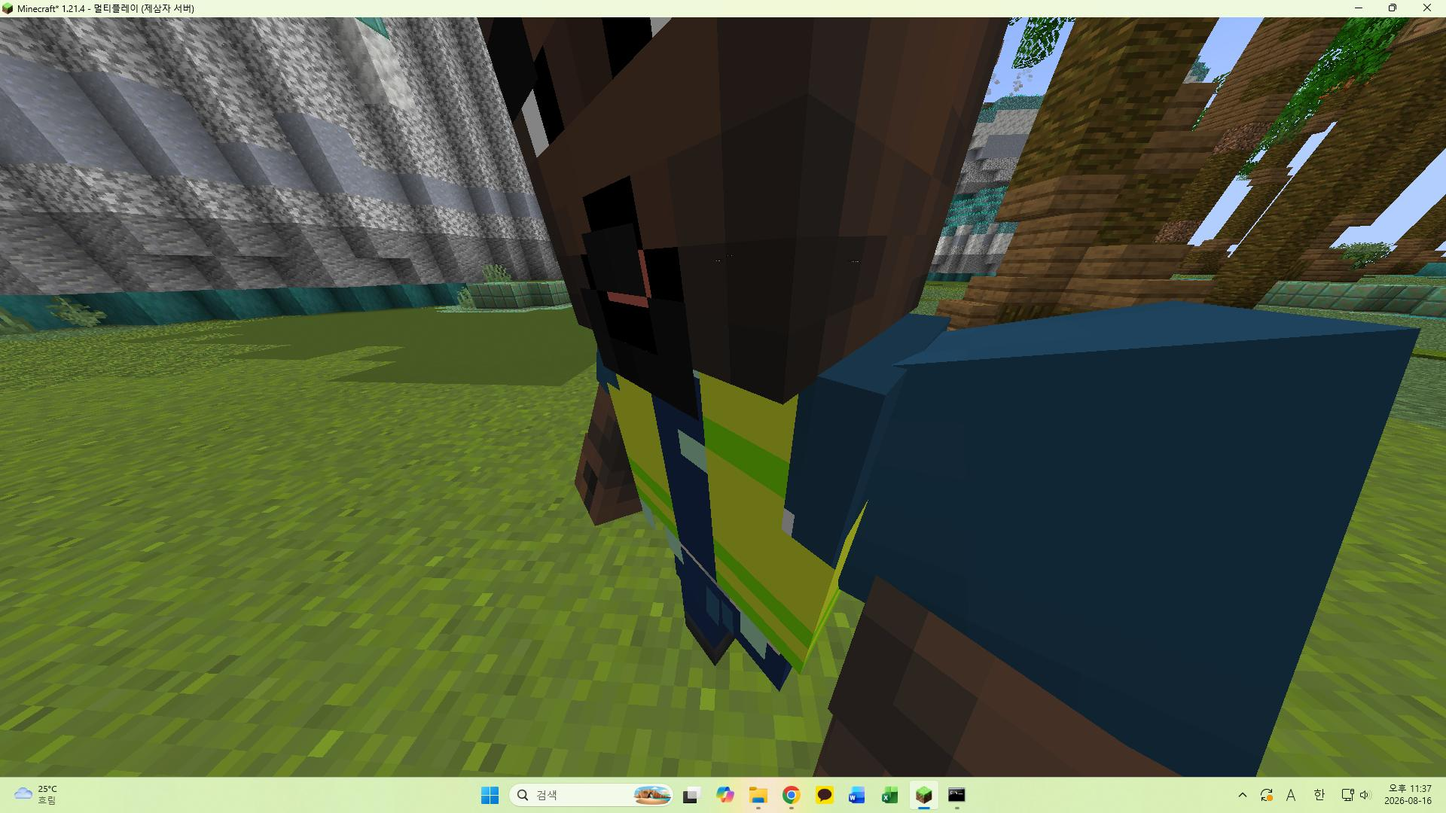Guardian: (488, 18, 1417, 776)
